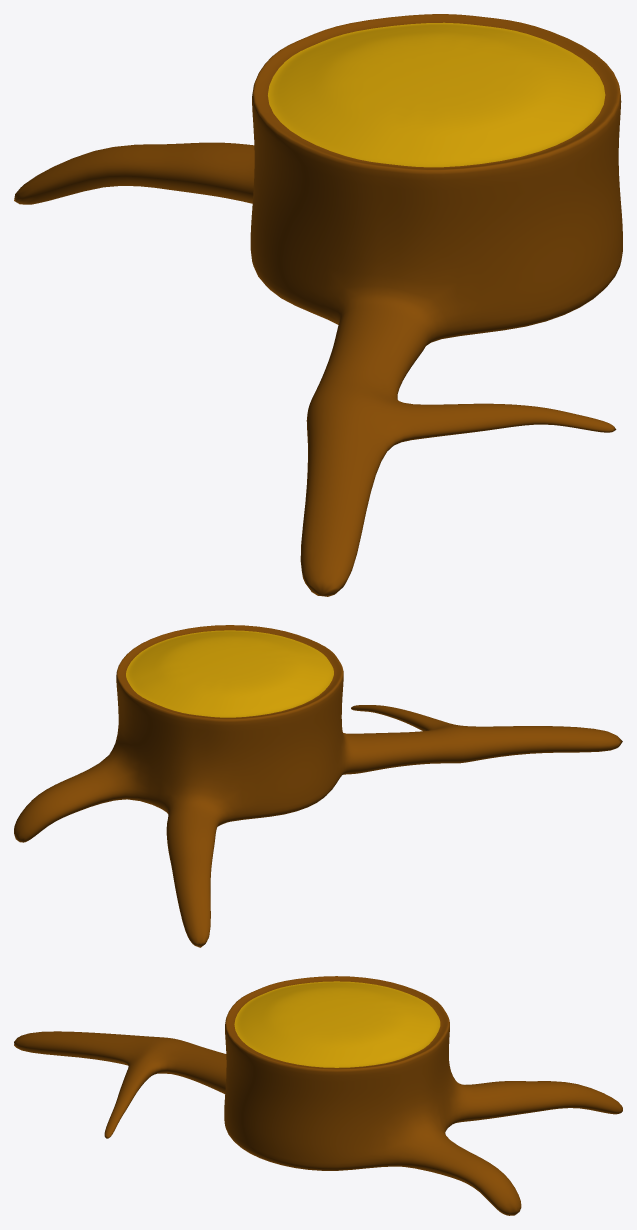
The model's file is Stump.fbx.
3 views of the same model, one above another, from view 1: azimuth 30°, elevation 25°; view 2: azimuth 150°, elevation 25°; view 3: azimuth 270°, elevation 25° (orthographic). The views are drawn at different scales.
Visible parts, largest first — view 1: Cylinder; view 2: Cylinder; view 3: Cylinder.
Part boxes in pixels (bbox=[...]): Cylinder: bbox=[14, 14, 622, 596]; Cylinder: bbox=[14, 625, 622, 947]; Cylinder: bbox=[14, 976, 622, 1215].
Size of the model in its own units: 355 by 143 by 516.
